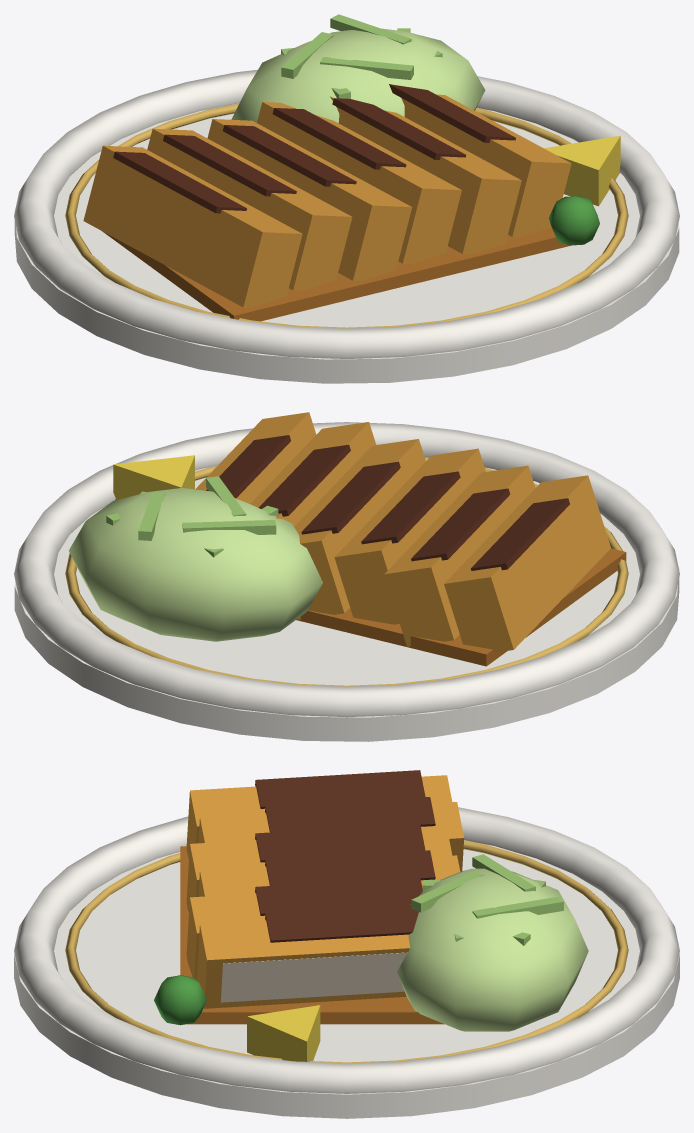
File: cine_tonkatsu_plate.glb
The picture shows the model from 3 angles, top to bottom: view 1: azimuth 30°, elevation 25°; view 2: azimuth 150°, elevation 25°; view 3: azimuth 270°, elevation 25°; orthographic projection.
Parts seen in each view (by area): view 1: cine_tonkatsu_plate_plate_w, cine_tonkatsu_plate_katsu, cine_tonkatsu_plate_sauce_fine, cine_tonkatsu_plate_cabbage, cine_tonkatsu_plate_katsu_d_detail, cine_tonkatsu_plate_plate_line_fine, cine_tonkatsu_plate_lemon_detail, cine_tonkatsu_plate_cabbage_d_detail, cine_tonkatsu_plate_parsley_detail; view 2: cine_tonkatsu_plate_plate_w, cine_tonkatsu_plate_katsu, cine_tonkatsu_plate_cabbage, cine_tonkatsu_plate_sauce_fine, cine_tonkatsu_plate_katsu_d_detail, cine_tonkatsu_plate_plate_line_fine, cine_tonkatsu_plate_cabbage_d_detail, cine_tonkatsu_plate_lemon_detail; view 3: cine_tonkatsu_plate_plate_w, cine_tonkatsu_plate_sauce_fine, cine_tonkatsu_plate_cabbage, cine_tonkatsu_plate_katsu, cine_tonkatsu_plate_katsu_in_fine, cine_tonkatsu_plate_plate_line_fine, cine_tonkatsu_plate_katsu_d_detail, cine_tonkatsu_plate_lemon_detail, cine_tonkatsu_plate_cabbage_d_detail, cine_tonkatsu_plate_parsley_detail.
Boxes of the visible parts, <box> form: cine_tonkatsu_plate_plate_w: <box>14,69,679,383</box>; cine_tonkatsu_plate_katsu: <box>83,94,571,307</box>; cine_tonkatsu_plate_sauce_fine: <box>113,84,515,213</box>; cine_tonkatsu_plate_cabbage: <box>231,28,485,122</box>; cine_tonkatsu_plate_katsu_d_detail: <box>102,227,571,321</box>; cine_tonkatsu_plate_plate_line_fine: <box>65,103,628,328</box>; cine_tonkatsu_plate_lemon_detail: <box>544,135,620,206</box>; cine_tonkatsu_plate_cabbage_d_detail: <box>281,14,442,98</box>; cine_tonkatsu_plate_parsley_detail: <box>549,196,599,245</box>; cine_tonkatsu_plate_plate_w: <box>14,422,679,741</box>; cine_tonkatsu_plate_katsu: <box>195,412,610,652</box>; cine_tonkatsu_plate_cabbage: <box>68,488,322,641</box>; cine_tonkatsu_plate_sauce_fine: <box>206,435,569,570</box>; cine_tonkatsu_plate_katsu_d_detail: <box>296,548,626,666</box>; cine_tonkatsu_plate_plate_line_fine: <box>65,457,628,686</box>; cine_tonkatsu_plate_cabbage_d_detail: <box>106,476,278,557</box>; cine_tonkatsu_plate_lemon_detail: <box>113,455,194,500</box>; cine_tonkatsu_plate_plate_w: <box>14,807,679,1118</box>; cine_tonkatsu_plate_sauce_fine: <box>255,770,435,942</box>; cine_tonkatsu_plate_cabbage: <box>397,868,588,1031</box>; cine_tonkatsu_plate_katsu: <box>186,775,464,1008</box>; cine_tonkatsu_plate_katsu_in_fine: <box>220,952,407,1002</box>; cine_tonkatsu_plate_plate_line_fine: <box>65,840,628,1063</box>; cine_tonkatsu_plate_katsu_d_detail: <box>180,846,444,1024</box>; cine_tonkatsu_plate_lemon_detail: <box>247,1005,320,1061</box>; cine_tonkatsu_plate_cabbage_d_detail: <box>411,854,563,945</box>; cine_tonkatsu_plate_parsley_detail: <box>154,975,206,1025</box>.
Size of the model in its own units: 0.2 by 0.0491 by 0.2.
